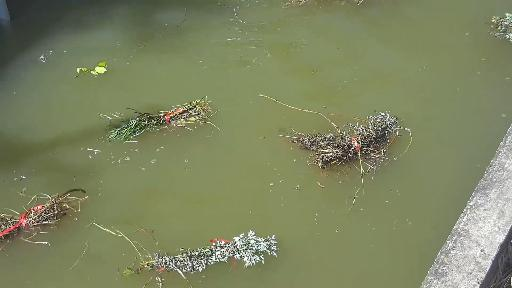leaf: (66, 61, 124, 85)
twig: (256, 80, 404, 211), (2, 174, 122, 253), (120, 223, 279, 275), (88, 98, 228, 155), (484, 8, 511, 47)
